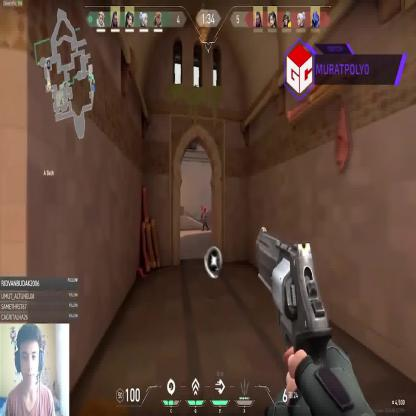enemy: (203, 206, 209, 230), (200, 203, 204, 223)
enemy_head: (200, 204, 202, 209), (204, 207, 206, 210)
